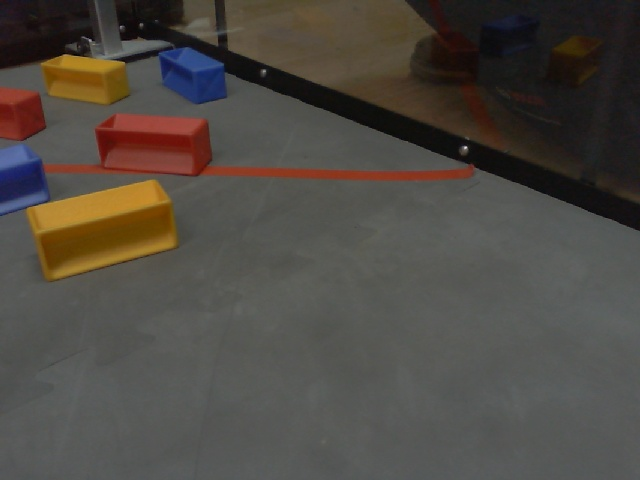BlueSample: (159, 47, 228, 107), (1, 145, 51, 214)
RedSample: (91, 108, 218, 180), (1, 84, 48, 143)
YellowSample: (25, 178, 182, 282), (41, 48, 132, 108)
